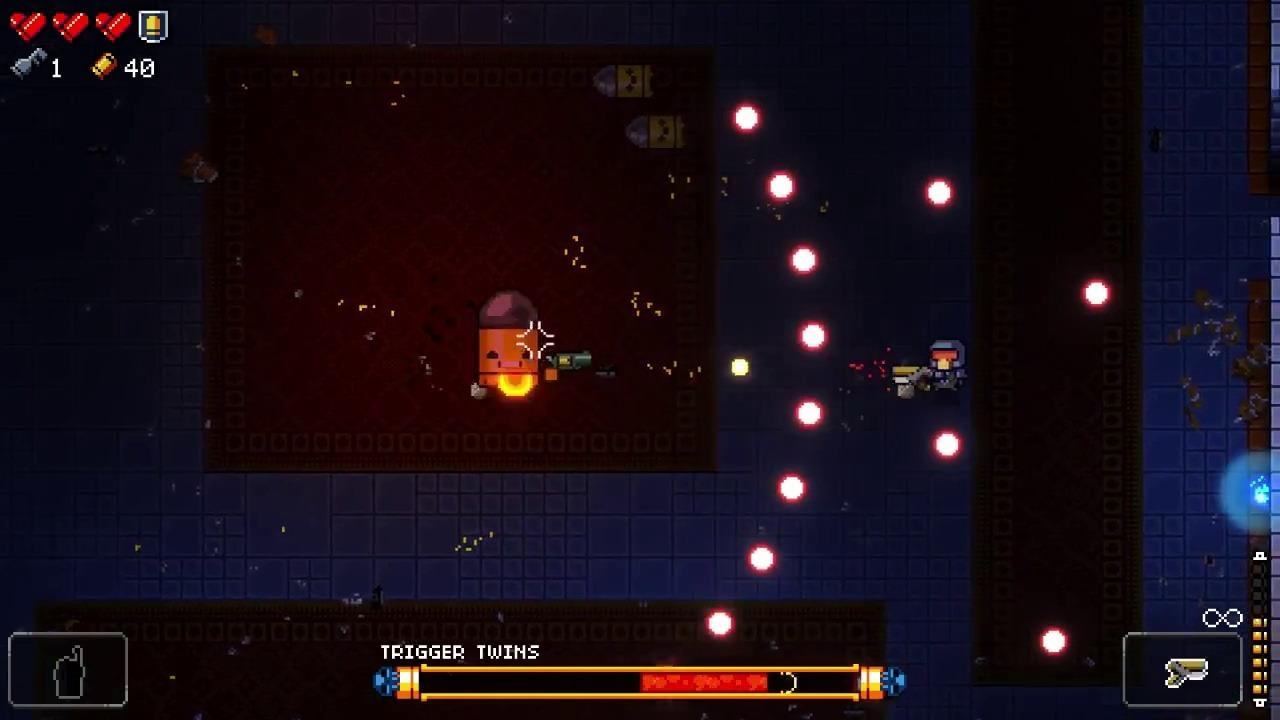boss_smiley: (475, 291, 541, 389)
bullet: (791, 398, 826, 430), (775, 472, 808, 504), (705, 609, 736, 643), (930, 431, 964, 462), (1040, 629, 1072, 661), (925, 181, 958, 212), (750, 543, 780, 577), (788, 248, 821, 278), (768, 172, 797, 204), (800, 320, 828, 353), (732, 106, 761, 135), (1085, 282, 1112, 311)
dead_bullet_kin: (625, 117, 687, 152), (594, 64, 652, 100)
player: (929, 340, 966, 397)
